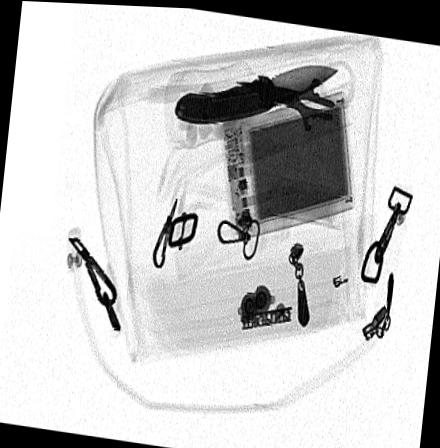Knife: (173, 62, 343, 127)
Powerbank: (215, 85, 357, 243)
Scissors: (235, 62, 352, 165)
